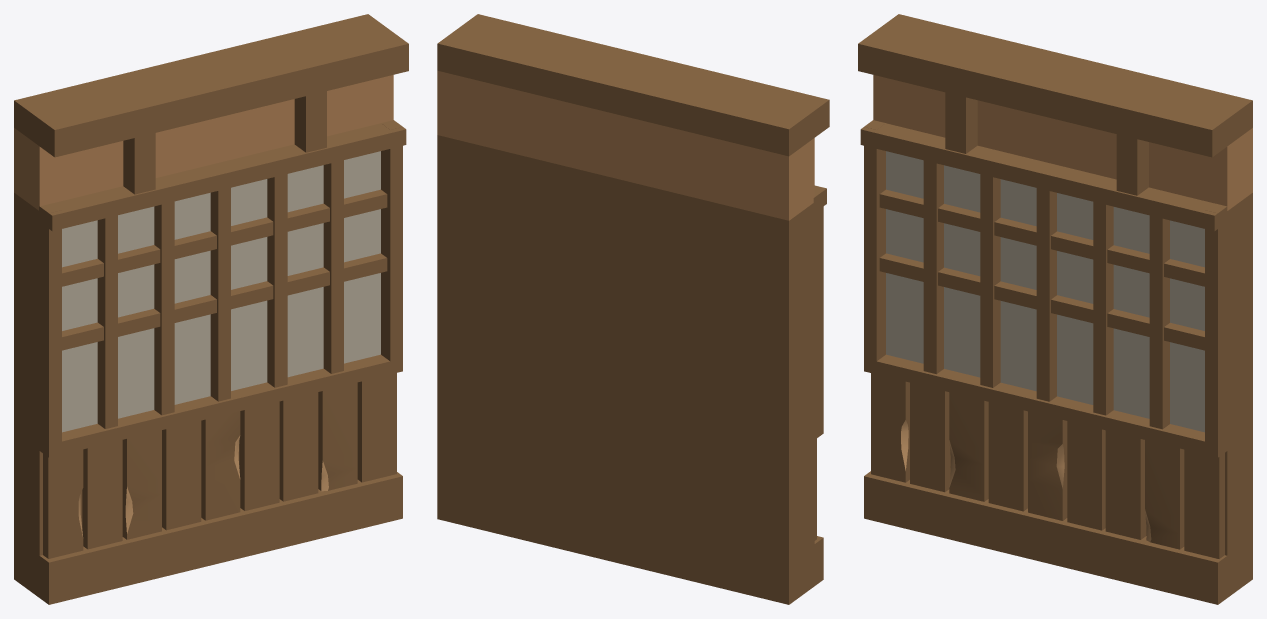
Rendered from wall-shoji.glb.
3 views of the same model, side by side, from view 1: azimuth 30°, elevation 25°; view 2: azimuth 150°, elevation 25°; view 3: azimuth 330°, elevation 25° (orthographic).
Parts seen in each view (by area): view 1: Wall_Shoji; view 2: Wall_Shoji; view 3: Wall_Shoji.
Boxes of the visible parts, left/top/right/bottom form: Wall_Shoji: left=14, top=14, right=408, bottom=604; Wall_Shoji: left=437, top=14, right=829, bottom=604; Wall_Shoji: left=858, top=14, right=1252, bottom=604.
Bounding box in the file's own units: 4 × 5.17 × 0.7953.
